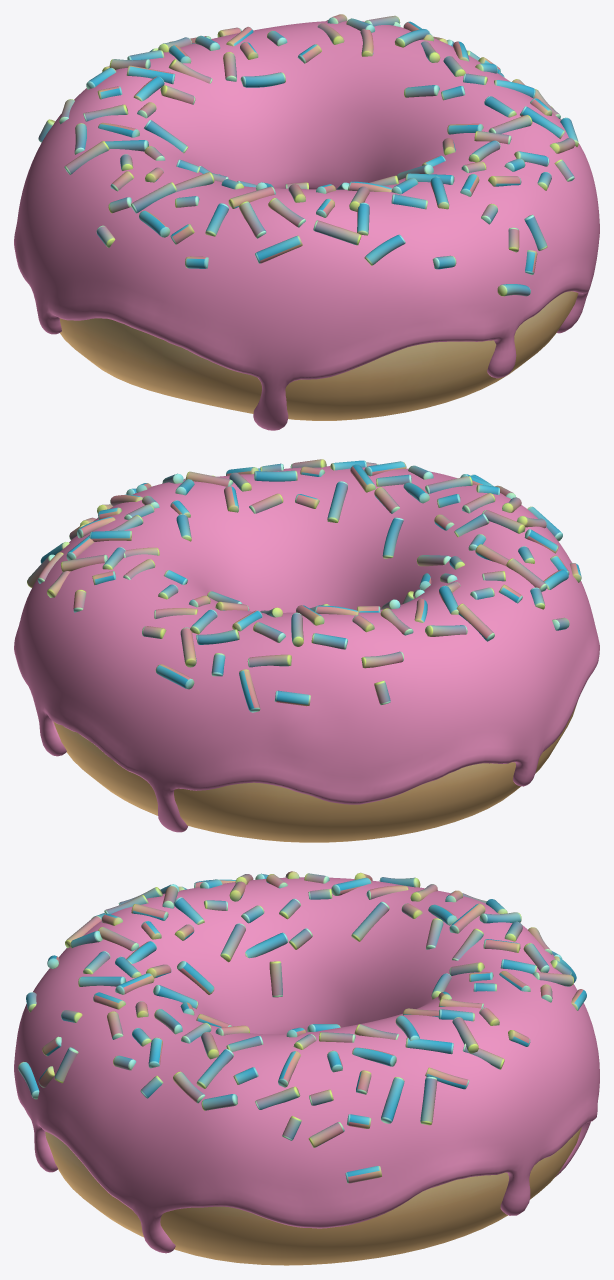
Rendered from pleasedonut-transformed.glb.
3 views of the same model, one above another, from view 1: azimuth 30°, elevation 25°; view 2: azimuth 150°, elevation 25°; view 3: azimuth 270°, elevation 25° (orthographic).
Visible parts, largest first — view 1: icing.002, icing.003, donut.002; view 2: icing.002, icing.003, donut.002; view 3: icing.002, icing.003, donut.002.
Boxes of the visible parts, left/top/right/bottom form: icing.002: left=14, top=21, right=599, bottom=430; icing.003: left=38, top=14, right=578, bottom=296; donut.002: left=59, top=291, right=578, bottom=420; icing.002: left=14, top=466, right=599, bottom=832; icing.003: left=27, top=459, right=581, bottom=712; donut.002: left=53, top=701, right=577, bottom=842; icing.002: left=14, top=877, right=599, bottom=1253; icing.003: left=18, top=871, right=586, bottom=1183; donut.002: left=45, top=1127, right=581, bottom=1265.
Bounding box in the file's own units: 0.1141 × 0.0501 × 0.1147.
Materials: 3 (2 with a texture image).
